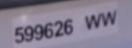2: (54, 20, 63, 36)
5: (15, 27, 24, 44)
6: (44, 21, 53, 38), (64, 18, 73, 34)
9: (34, 23, 44, 39), (25, 24, 33, 41)
w: (100, 11, 118, 26), (84, 13, 99, 28)
